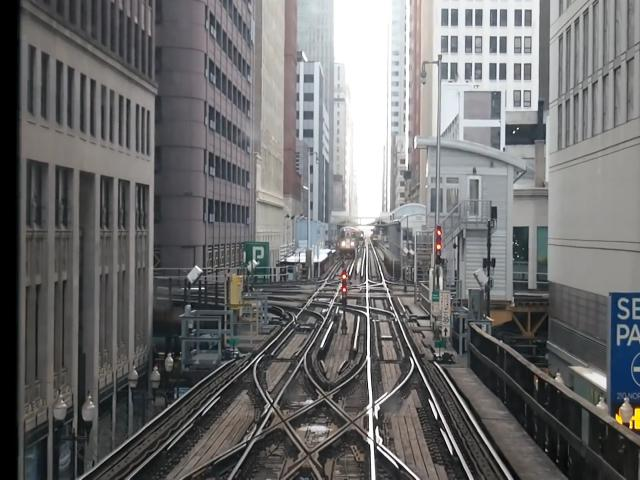signal light: (342, 272, 349, 305), (437, 227, 443, 260)
